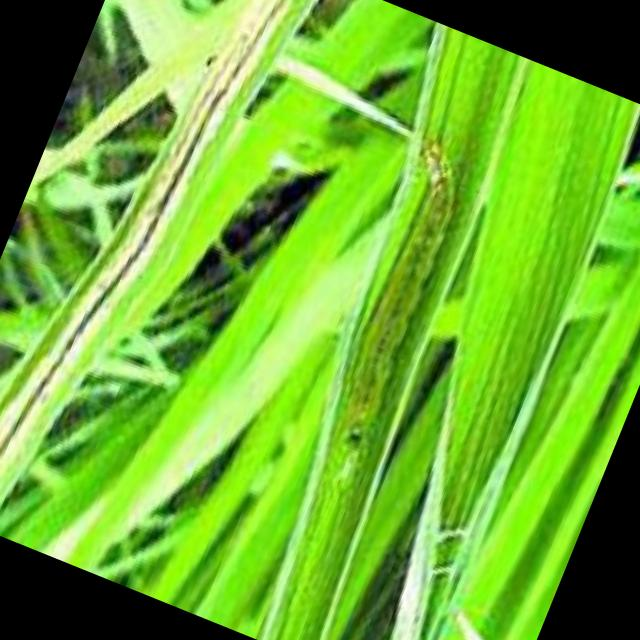leaf-folder: (276, 102, 527, 510)
